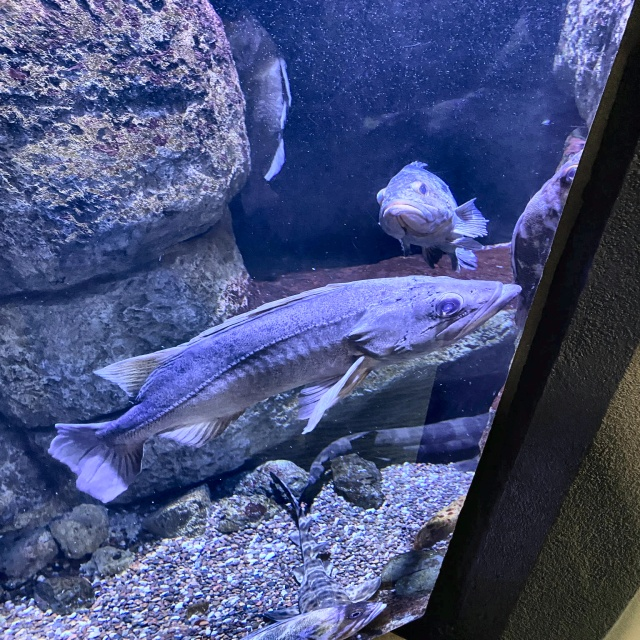fish: (50, 275, 524, 504), (513, 147, 589, 330), (375, 160, 488, 272), (235, 54, 289, 214), (242, 601, 388, 639)
shark: (295, 409, 499, 510), (263, 470, 380, 639)
